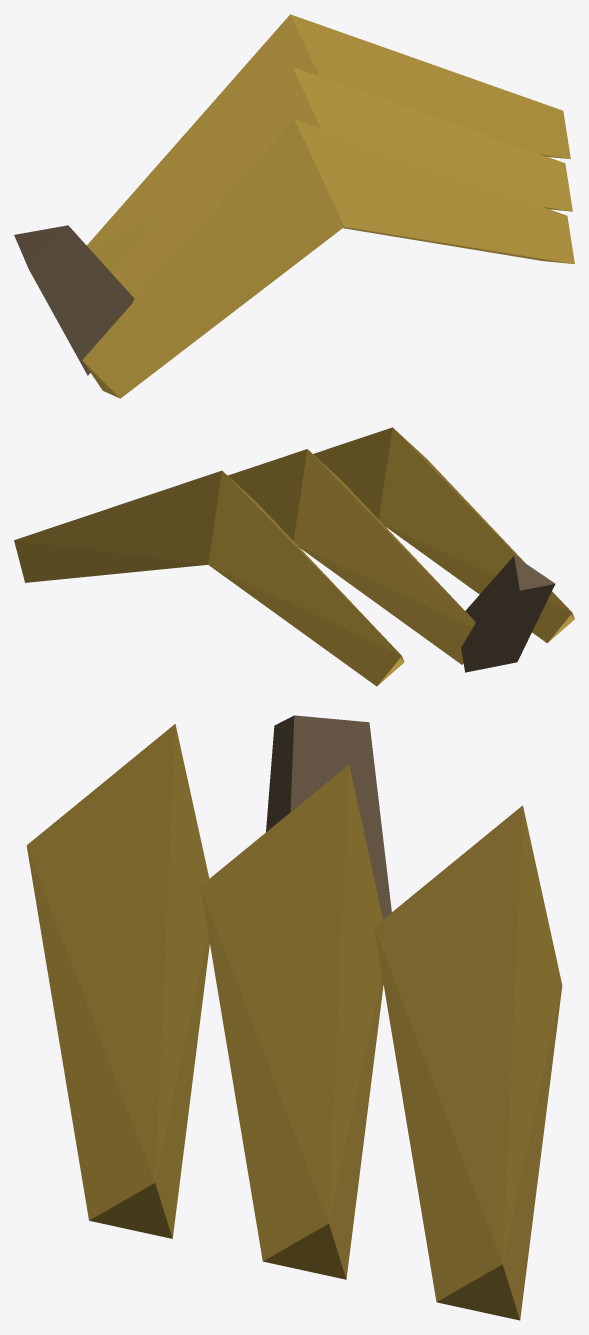
Rendered from banana_bunch.glb.
3 views of the same model, one above another, from view 1: azimuth 30°, elevation 25°; view 2: azimuth 150°, elevation 25°; view 3: azimuth 270°, elevation 25° (orthographic). The views are drawn at different scales.
Visible parts, largest first — view 1: Body_banana_bunch.001; view 2: Body_banana_bunch.001; view 3: Body_banana_bunch.001.
Boxes of the visible parts, x1,y1,x2,y2 form: Body_banana_bunch.001: [14, 14, 574, 398]; Body_banana_bunch.001: [14, 427, 574, 686]; Body_banana_bunch.001: [26, 715, 562, 1320].
Size of the model in its own units: 0.2898 by 0.1056 by 0.1388.
